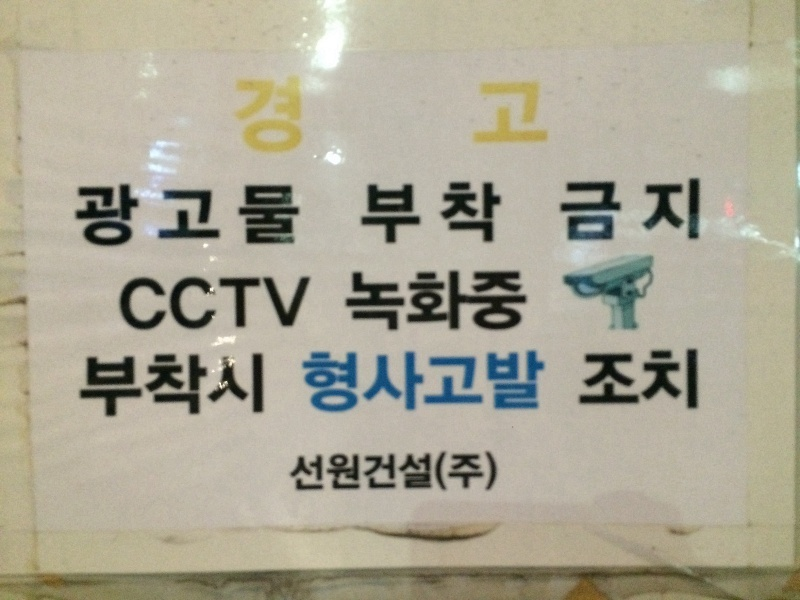text: (241, 79, 256, 153), (257, 79, 272, 153), (273, 79, 288, 153), (289, 79, 304, 153), (305, 79, 320, 153), (321, 79, 336, 153), (337, 79, 352, 153), (353, 79, 368, 153), (369, 79, 384, 153), (385, 79, 400, 153), (401, 79, 416, 153), (417, 79, 432, 153), (433, 79, 448, 153), (449, 79, 464, 153), (465, 79, 480, 153), (481, 79, 496, 153), (497, 79, 512, 153), (513, 79, 528, 153), (529, 79, 544, 153), (81, 184, 96, 248), (97, 184, 112, 248), (113, 184, 128, 248), (129, 184, 144, 248), (145, 184, 160, 248), (161, 184, 176, 248), (177, 184, 192, 248), (193, 184, 208, 248), (209, 184, 224, 248), (225, 184, 240, 248), (241, 184, 256, 248), (257, 184, 272, 248), (273, 184, 288, 248), (97, 355, 112, 418), (113, 355, 128, 418), (129, 355, 144, 418), (145, 355, 160, 418), (161, 355, 176, 418), (177, 355, 192, 418), (193, 355, 208, 418), (209, 355, 224, 418), (225, 355, 240, 418), (241, 355, 256, 418), (305, 352, 320, 415), (321, 352, 336, 415), (337, 352, 352, 415), (353, 352, 368, 415), (369, 352, 384, 415), (385, 352, 400, 415), (401, 352, 416, 415), (417, 352, 432, 415), (433, 352, 448, 415), (449, 352, 464, 415), (465, 352, 480, 415), (481, 352, 496, 415), (497, 352, 512, 415), (513, 352, 528, 415), (529, 352, 544, 415), (369, 183, 384, 244), (385, 183, 400, 244), (401, 183, 416, 244), (417, 183, 432, 244), (433, 183, 448, 244), (449, 183, 464, 244), (465, 183, 480, 244), (481, 183, 496, 244), (577, 180, 592, 240), (593, 180, 608, 240), (609, 180, 624, 240), (625, 180, 640, 240), (641, 180, 656, 240), (657, 180, 672, 240), (673, 180, 688, 240), (593, 352, 608, 412), (609, 352, 624, 412), (625, 352, 640, 412), (641, 352, 656, 412), (657, 352, 672, 412), (673, 352, 688, 412), (353, 273, 368, 332), (369, 273, 384, 332), (385, 273, 400, 332), (401, 273, 416, 332), (417, 273, 432, 332), (433, 273, 448, 332), (449, 273, 464, 332), (465, 273, 480, 332), (481, 273, 496, 332), (497, 273, 512, 332), (513, 273, 528, 332), (129, 279, 144, 332), (145, 279, 160, 332), (161, 279, 176, 332), (177, 279, 192, 332), (193, 279, 208, 332), (209, 279, 224, 332), (225, 279, 240, 332), (241, 279, 256, 332), (257, 279, 272, 332), (273, 279, 288, 332), (289, 279, 304, 332), (289, 184, 301, 248), (689, 180, 700, 240), (481, 452, 497, 491), (689, 352, 699, 412), (449, 452, 464, 491), (465, 452, 480, 491), (87, 355, 96, 418), (289, 455, 304, 491), (305, 455, 320, 491), (321, 455, 336, 491), (337, 455, 352, 491), (353, 455, 368, 491), (369, 455, 384, 491), (385, 455, 400, 491), (401, 455, 416, 491), (417, 455, 432, 491), (118, 279, 128, 332), (568, 180, 576, 240), (437, 452, 448, 491), (585, 352, 592, 412), (257, 355, 263, 418), (305, 279, 311, 332), (497, 183, 502, 244), (545, 79, 549, 153), (76, 184, 80, 248), (529, 273, 533, 332), (301, 352, 304, 415), (238, 79, 240, 153), (545, 352, 546, 415), (367, 183, 368, 244)
